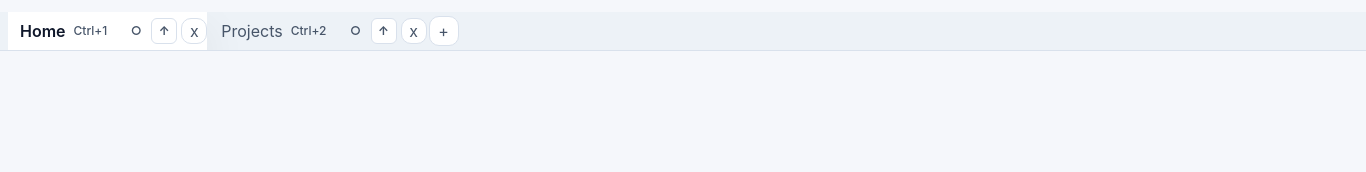
Test: WorkspaceTabBar › creates a workspace and reloads the list
Expected: the button "Home Ctrl+1" is shown, [8,12,119,50]
Click the button named "Create workspace": (444, 31) [428,16,458,46]
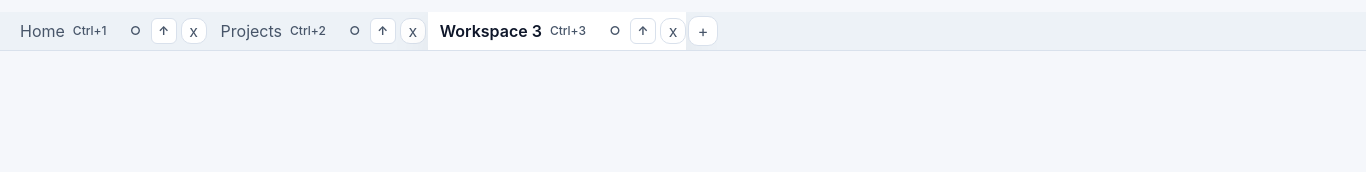
Result: the button "Workspace 3 Ctrl+3" is shown at [428,12,598,50]
